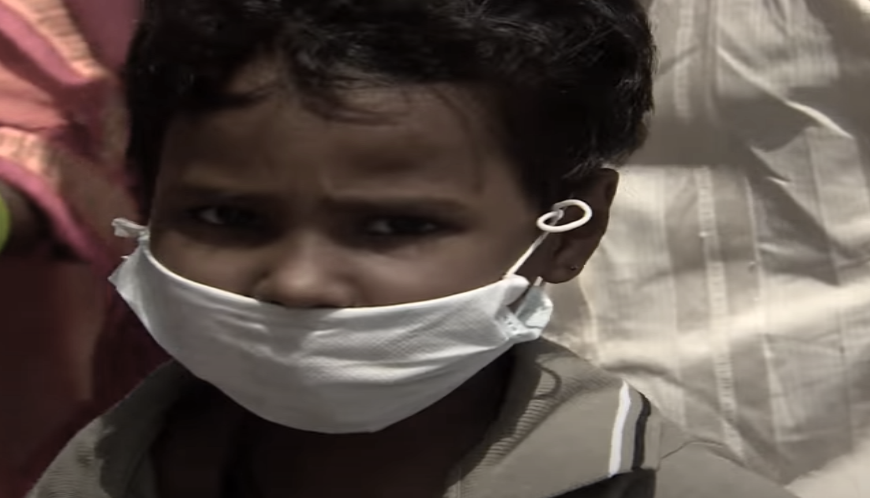mask_weared_incorrect: (105, 7, 608, 436)
